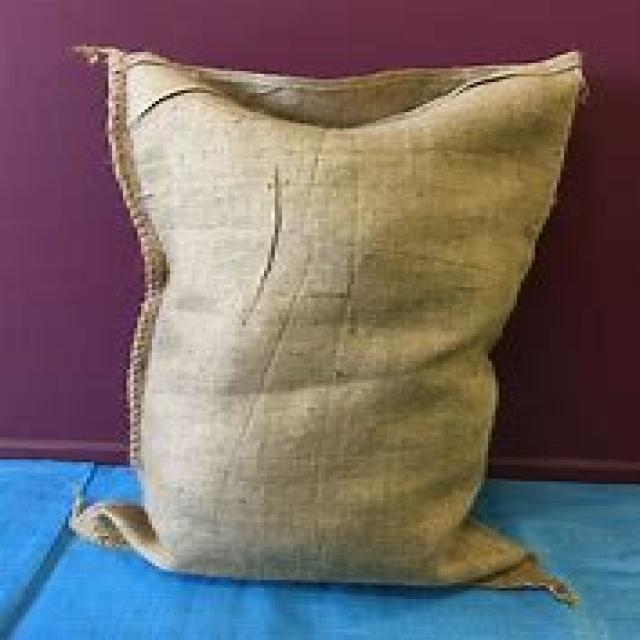gunny_bag: (60, 40, 587, 589)
